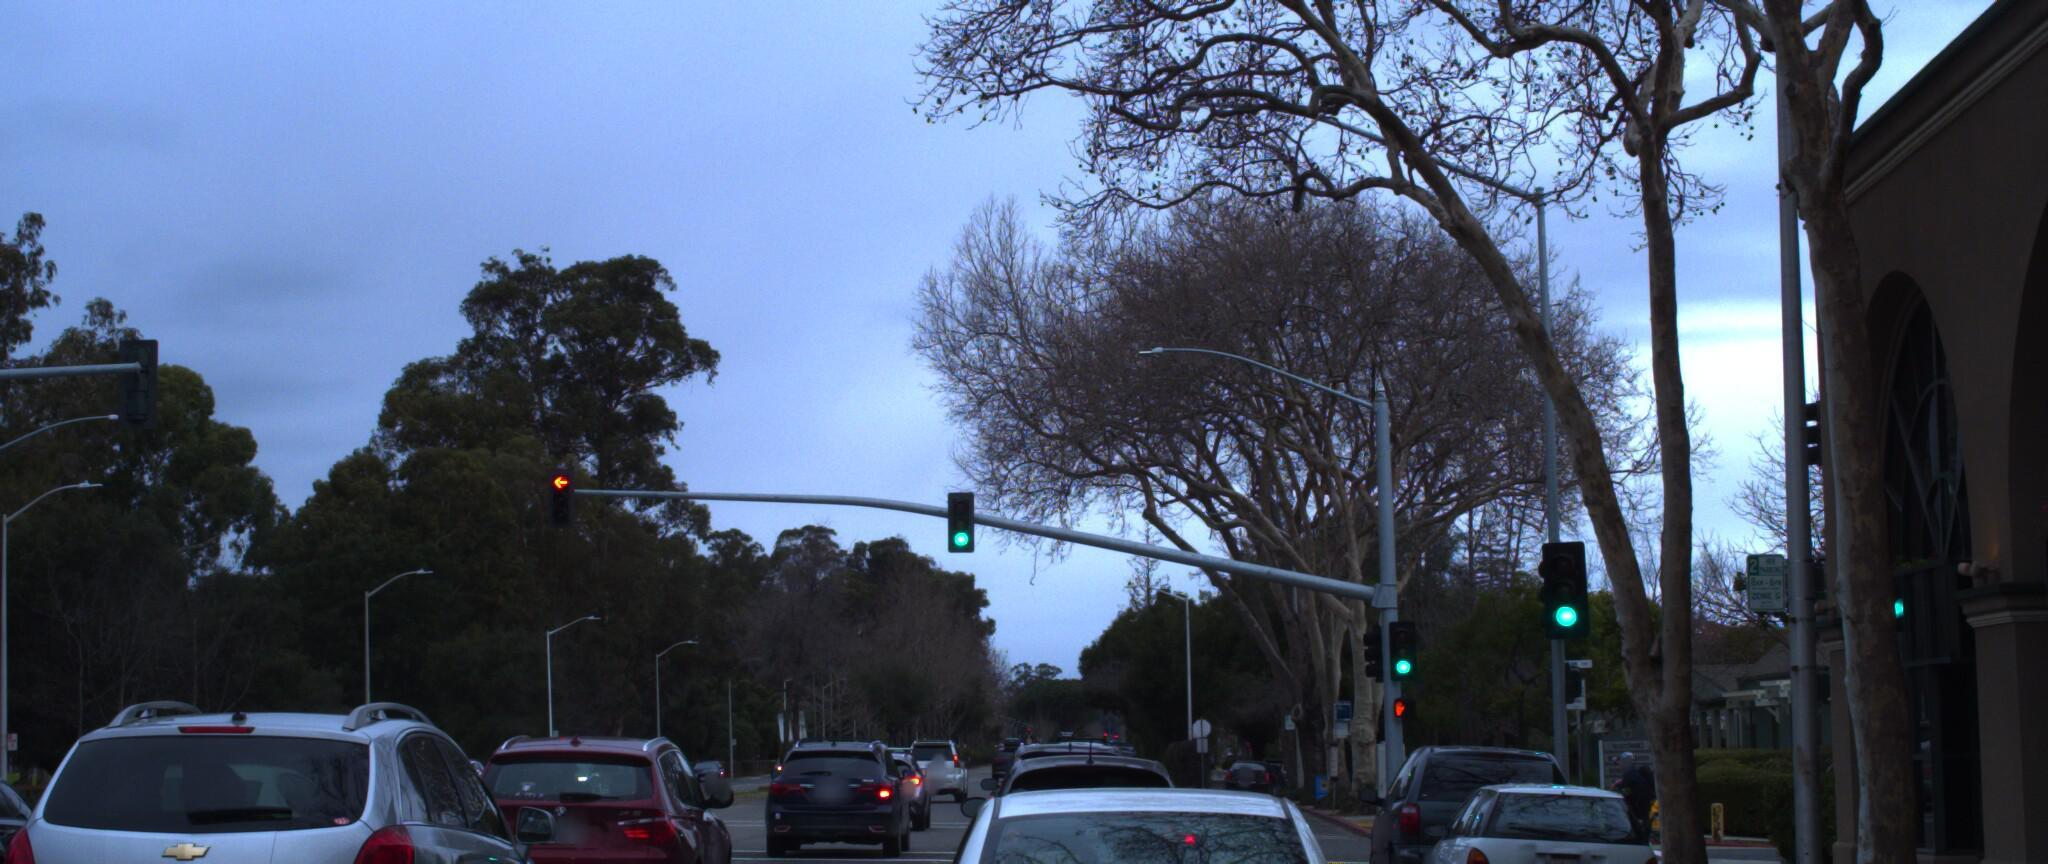bicycle: (1566, 733, 1689, 835)
car: (0, 666, 593, 864), (891, 754, 1422, 864), (438, 709, 754, 864), (950, 730, 1217, 864), (1349, 719, 1597, 864), (1398, 760, 1684, 864), (748, 722, 914, 850), (0, 754, 104, 864), (889, 730, 1004, 825)
